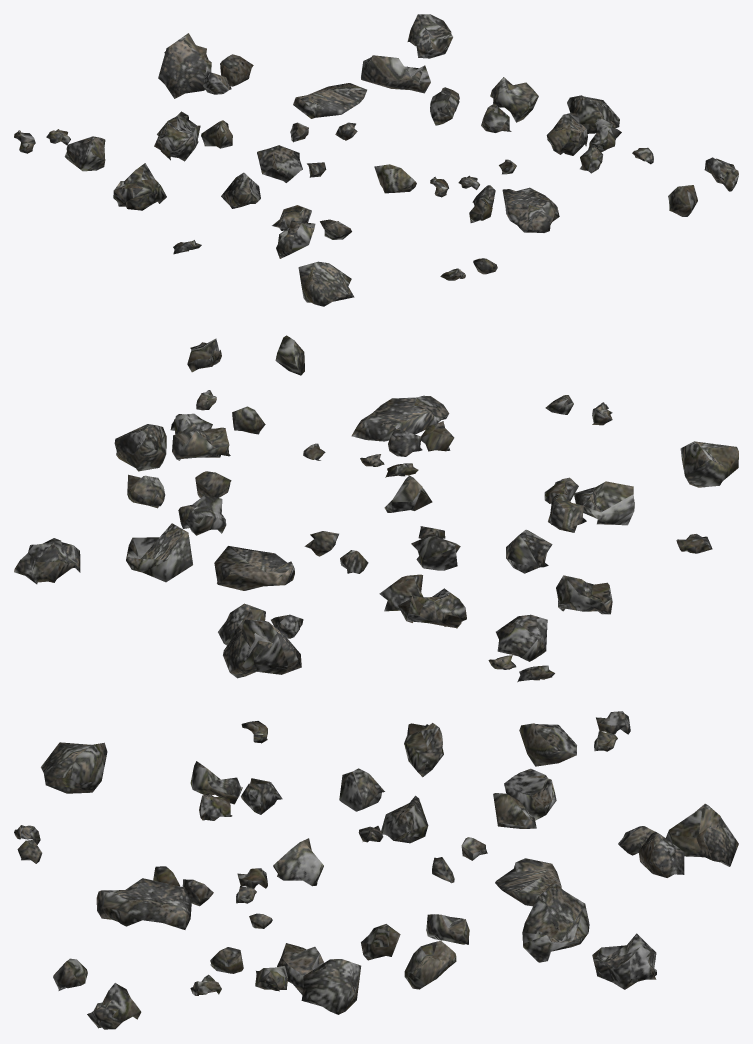
File: wasteland_gravel_02_001.gltf
3 renders of one model, top to bottom at view 1: azimuth 30°, elevation 25°; view 2: azimuth 150°, elevation 25°; view 3: azimuth 270°, elevation 25°, orthographic. The views are drawn at different scales.
Visible parts, largest first — view 1: Wasteland gravel 02.001; view 2: Wasteland gravel 02.001; view 3: Wasteland gravel 02.001.
Part boxes in pixels (bbox=[...]): Wasteland gravel 02.001: bbox=[14, 14, 738, 306]; Wasteland gravel 02.001: bbox=[14, 335, 738, 682]; Wasteland gravel 02.001: bbox=[14, 711, 738, 1029].
Bounding box in the file's own units: 0.4386 × 0.0381 × 0.4458.
Materials: 1 (1 with a texture image).
